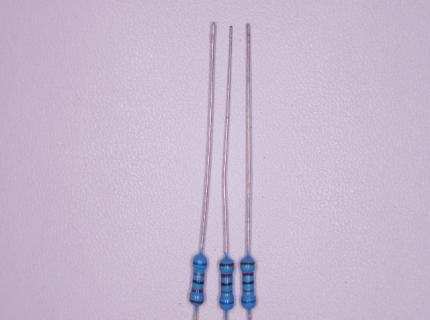Black band: (192, 279, 204, 285), (221, 282, 233, 286), (242, 281, 254, 284)
Blue band: (219, 301, 234, 305), (241, 300, 256, 304), (193, 262, 207, 266)
Brown band: (189, 299, 204, 304), (219, 263, 234, 267), (240, 262, 255, 265)
Grey band: (243, 289, 254, 293), (221, 290, 232, 294), (193, 273, 205, 276)
Red band: (242, 272, 254, 277), (191, 288, 203, 293), (221, 274, 233, 278)
